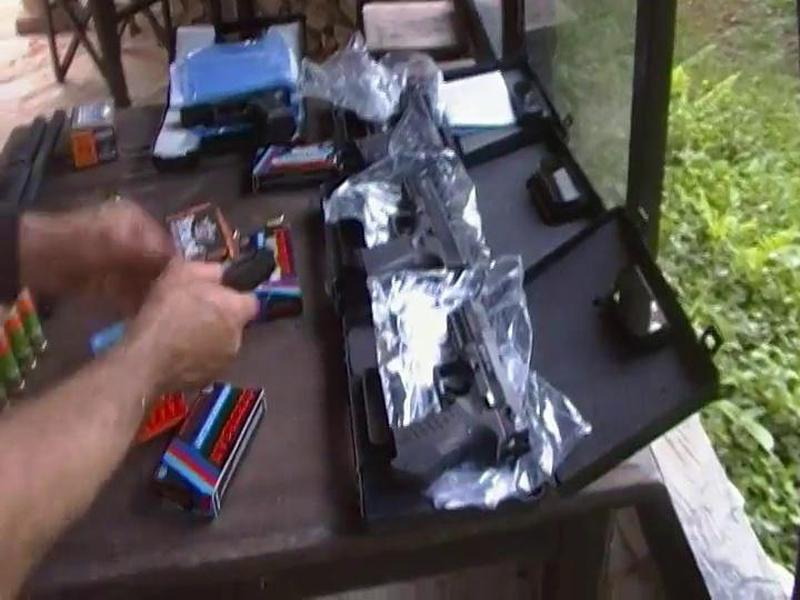Pistola: (382, 298, 539, 503), (355, 166, 476, 291)
